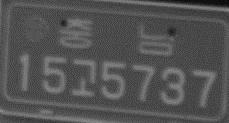1: (12, 51, 38, 92)
3: (158, 67, 187, 106)
5: (99, 60, 127, 99), (41, 57, 67, 95)
7: (192, 67, 218, 109), (131, 63, 156, 103)
고: (70, 57, 96, 98)
영: (21, 14, 51, 47)
충남_D: (58, 15, 175, 56)
